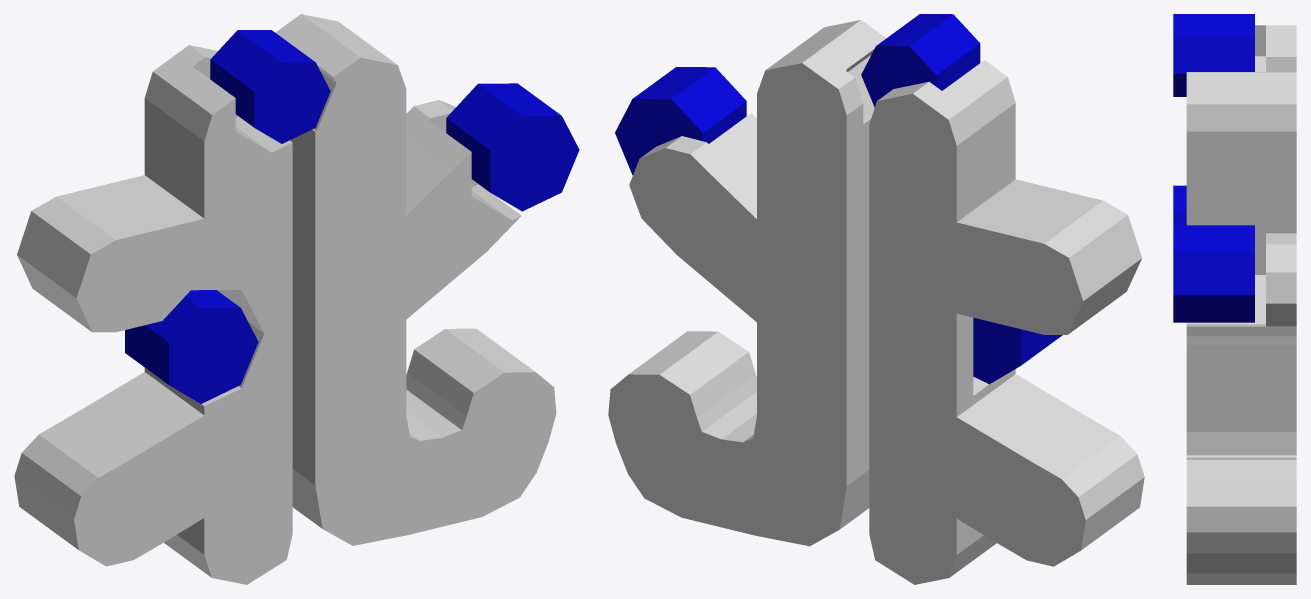
Rendered from Ch_Lite_China_北_01.fbx.
The picture shows the model from 3 angles, left to right: view 1: azimuth 30°, elevation 25°; view 2: azimuth 150°, elevation 25°; view 3: azimuth 270°, elevation 25°; orthographic projection. The views are drawn at different scales.
Visible parts, largest first — view 1: sphere1; view 2: sphere1; view 3: sphere1.
Part boxes in pixels (x1=…): sphere1: x1=14, y1=14, x2=579, y2=584; sphere1: x1=608, y1=14, x2=1144, y2=584; sphere1: x1=1173, y1=14, x2=1296, y2=584.
Size of the model in its own units: 0.9654 by 0.9645 by 0.2242.
